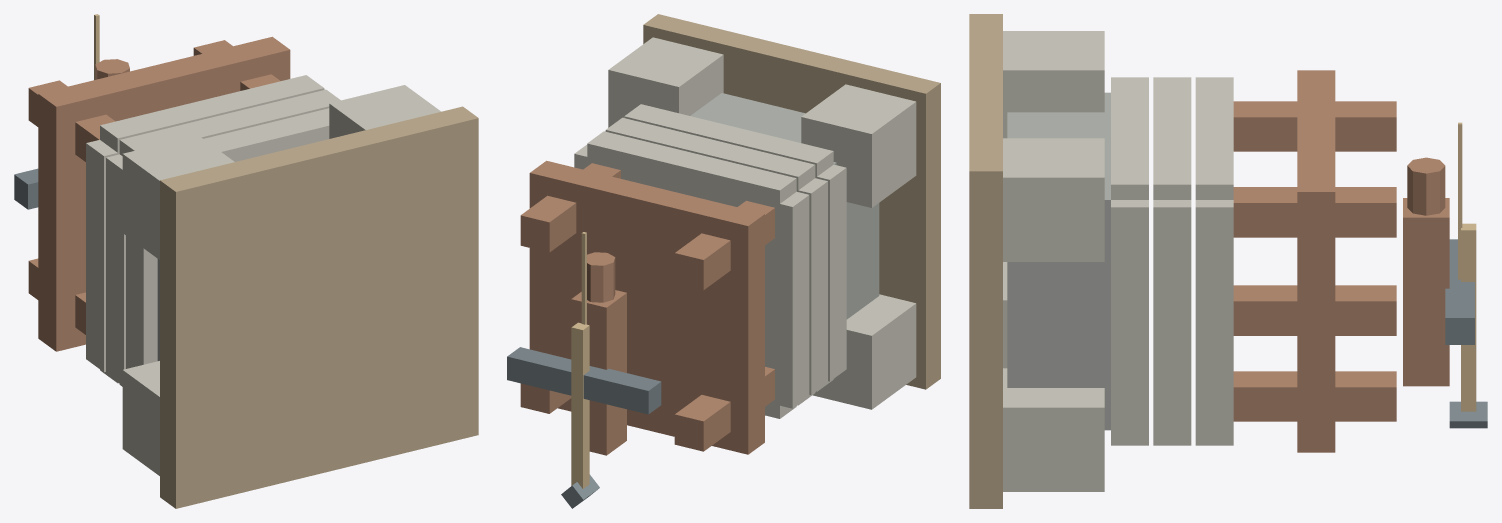
Rendered from arrow_tower_v2.glb.
The picture shows the model from 3 angles, left to right: view 1: azimuth 30°, elevation 25°; view 2: azimuth 150°, elevation 25°; view 3: azimuth 270°, elevation 25°; orthographic projection. The views are drawn at different scales.
Parts seen in each view (by area): view 1: single_cell_base, platform, stone_corner.001, wall_block_left.002, wall_block_back.002, wall_block_left.001, wall_block_back.001, wall_block_left, stone_corner, wall_block_back, stone_corner.003, wood_post.002 (+4 smaller); view 2: platform, single_cell_base, stone_corner.001, wall_block_left.002, wall_block_back.002, stone_corner, stone_corner.003, tower_body, crossbow_arm, crossbow_stock, wall_block_left, wall_block_left.001 (+11 smaller); view 3: tower_body, single_cell_base, platform, stone_corner.003, stone_corner.002, wall_block_right.001, wall_block_right.002, wall_block_right, stone_corner.001, crossbow_stock, wood_post, wood_post.001 (+10 smaller).
Part boxes in pixels (<box>): single_cell_base: <box>160,106,478,508</box>; platform: <box>38,36,290,351</box>; stone_corner.001: <box>122,135,234,259</box>; wall_block_left.002: <box>86,140,117,372</box>; wall_block_back.002: <box>100,75,324,154</box>; wall_block_left.001: <box>106,154,125,385</box>; wall_block_back.001: <box>119,89,340,155</box>; wall_block_left: <box>126,235,157,368</box>; stone_corner: <box>122,361,159,475</box>; wall_block_back: <box>204,108,329,161</box>; stone_corner.003: <box>329,85,440,138</box>; wood_post.002: <box>28,80,115,161</box>; platform: <box>529,160,764,454</box>; single_cell_base: <box>643,14,940,389</box>; stone_corner.001: <box>801,84,916,207</box>; wall_block_left.002: <box>749,191,809,408</box>; wall_block_back.002: <box>587,131,796,237</box>; stone_corner: <box>813,294,916,409</box>; stone_corner.003: <box>608,37,723,127</box>; tower_body: <box>690,93,879,319</box>; crossbow_arm: <box>507,347,661,414</box>; crossbow_stock: <box>571,290,626,455</box>; wall_block_left: <box>815,164,846,381</box>; wall_block_left.001: <box>796,178,827,394</box>; tower_body: <box>1007,92,1110,430</box>; single_cell_base: <box>969,14,1002,508</box>; platform: <box>1297,70,1335,452</box>; stone_corner.003: <box>1003,138,1104,261</box>; stone_corner.002: <box>1003,368,1104,491</box>; wall_block_right.001: <box>1153,200,1191,437</box>; wall_block_right.002: <box>1195,200,1233,437</box>; wall_block_right: <box>1111,200,1148,437</box>; stone_corner.001: <box>1003,31,1104,138</box>; crossbow_stock: <box>1403,198,1449,386</box>; wood_post: <box>1233,285,1396,335</box>; wood_post.001: <box>1233,371,1396,421</box>.
Bounding box in the file's own units: 0.88 × 0.88 × 1.23.
